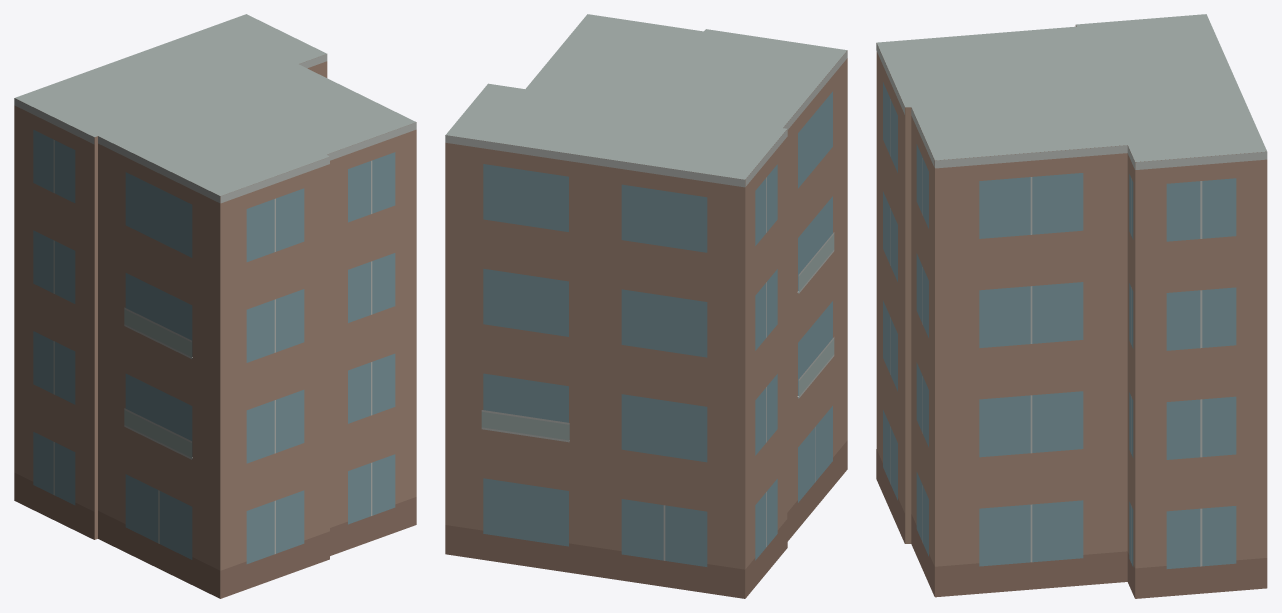
Rendered from survey-upis-32987747.glb.
3 views of the same model, side by side, from view 1: azimuth 30°, elevation 25°; view 2: azimuth 150°, elevation 25°; view 3: azimuth 270°, elevation 25° (orthographic). The views are drawn at different scales.
Visible parts, largest first — view 1: survey-upis-32987747.tmp; view 2: survey-upis-32987747.tmp; view 3: survey-upis-32987747.tmp.
Part boxes in pixels (x1,y1,x2,y2): survey-upis-32987747.tmp: (14,14,416,598); survey-upis-32987747.tmp: (445,14,847,598); survey-upis-32987747.tmp: (876,14,1267,598).
Size of the model in its own units: 9.69 by 13.3 by 10.8.
